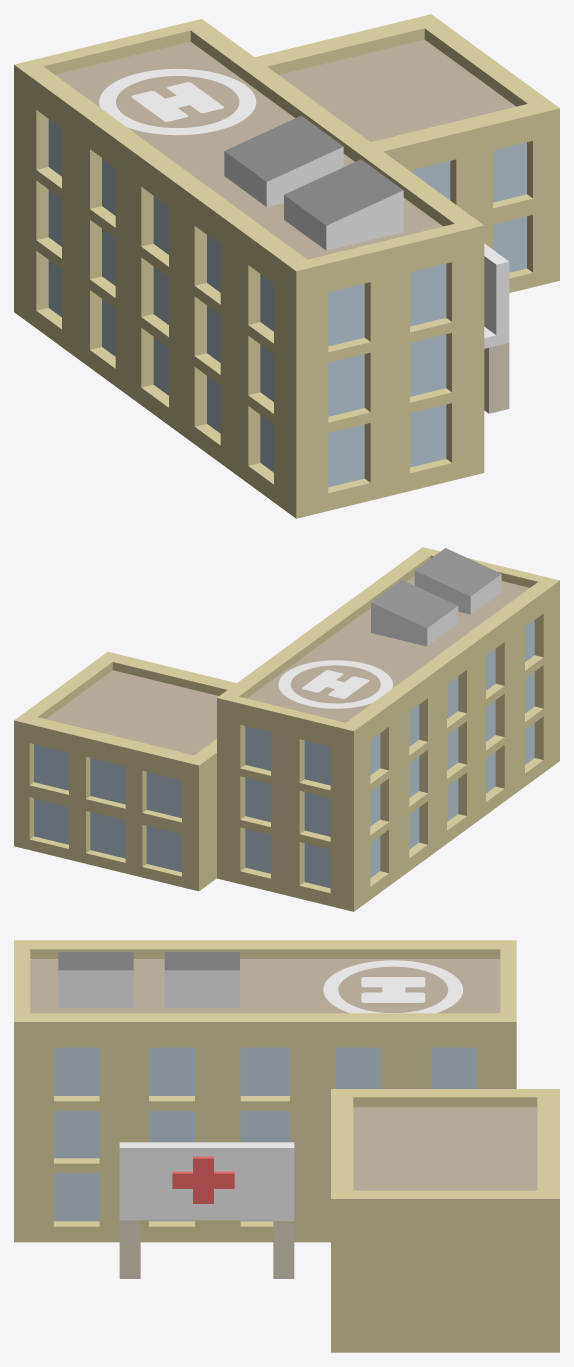
The model's file is city_of_future.glb.
3 views of the same model, one above another, from view 1: azimuth 30°, elevation 25°; view 2: azimuth 150°, elevation 25°; view 3: azimuth 270°, elevation 25° (orthographic). The views are drawn at different scales.
Visible parts, largest first — view 1: pCube1, pCube4, pCube5, pasted__pCube5, pPlane1, pasted__pCube3, pasted__pCube2; view 2: pCube1, pCube4, pasted__pCube5, pCube5, pPlane1; view 3: pCube1, pCube4, pasted__pCube3, pCube5, pasted__pCube5, pPlane1, pCube3, pasted__pCube2, pasted__pasted__pCube2, pCube6, pasted__pCube6.
Boxes of the visible parts, x1=… form: pCube1: x1=14, y1=19, x2=484, y2=518; pCube4: x1=255, y1=14, x2=559, y2=292; pCube5: x1=284, y1=159, x2=403, y2=250; pasted__pCube5: x1=224, y1=115, x2=343, y2=206; pPlane1: x1=99, y1=68, x2=256, y2=135; pasted__pCube3: x1=484, y1=243, x2=509, y2=335; pasted__pCube2: x1=484, y1=343, x2=509, y2=413; pCube1: x1=217, y1=547, x2=559, y2=911; pCube4: x1=14, y1=652, x2=236, y2=891; pasted__pCube5: x1=371, y1=580, x2=458, y2=646; pCube5: x1=414, y1=548, x2=501, y2=614; pPlane1: x1=278, y1=660, x2=392, y2=708; pCube1: x1=14, y1=940, x2=516, y2=1242; pCube4: x1=331, y1=1089, x2=559, y2=1352; pasted__pCube3: x1=119, y1=1142, x2=294, y2=1210; pCube5: x1=58, y1=952, x2=133, y2=1007; pasted__pCube5: x1=164, y1=952, x2=239, y2=1007; pPlane1: x1=323, y1=960, x2=462, y2=1013; pCube3: x1=119, y1=1210, x2=294, y2=1220; pasted__pCube2: x1=119, y1=1220, x2=140, y2=1278; pasted__pasted__pCube2: x1=273, y1=1220, x2=294, y2=1278; pCube6: x1=193, y1=1156, x2=213, y2=1203; pasted__pCube6: x1=172, y1=1171, x2=234, y2=1188.
Size of what is drawn, in the model's own units: 42.61 by 25.64 by 51.24.
10 materials, 1 textured.
